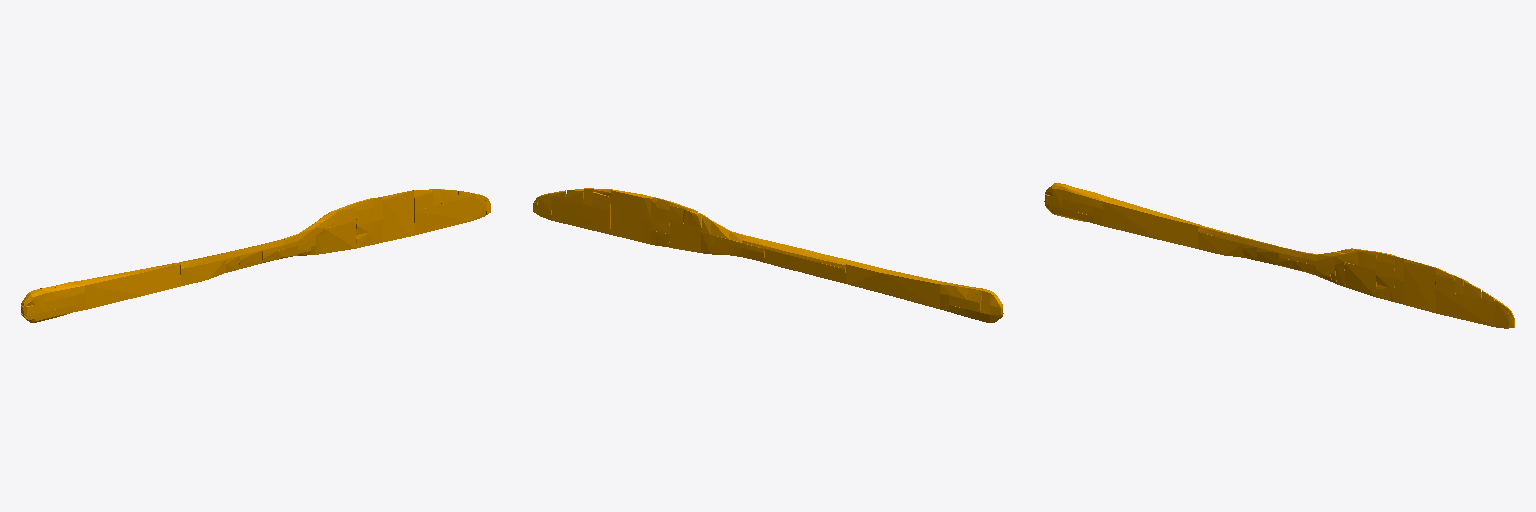
The robot description file, URDF, robot "cutlery-knife":
<?xml version="1.0" ?>
<robot name="cutlery-knife">
  <link name="baseLink">
    <contact>
      <lateral_friction value="1.0"/>
      <inertia_scaling value="3.0"/>
    </contact>
    <inertial>
      <origin rpy="0 0 0" xyz="0.000 0.000 0.000"/>
       <mass value=".1"/>
       <inertia ixx="1" ixy="0.0" ixz="0.0" iyy="1" iyz="0.0" izz="1"/>
    </inertial>
    <visual>
      <origin rpy="0 0 0" xyz="0 0 0"/>
      <geometry>
        <mesh filename="cutlery/cutlery-knife_2_new.obj" scale="1.0 1.0 1.0"/>
      </geometry>
    </visual>
    <collision>
      <origin rpy="0 0 0" xyz="0 0 0"/>
      <geometry>
        <mesh filename="../collision/cutlery/cutlery-knife_2_new.obj" scale="1.0 1.0 1.0"/>
      </geometry>
    </collision>
  </link>
</robot>
        

--- What the picture shows (computed from the rendered views, not written in the file) ---
The picture shows the robot from 3 angles, left to right: view 1: azimuth 30°, elevation 25°; view 2: azimuth 150°, elevation 25°; view 3: azimuth 330°, elevation 25°; orthographic projection.
Model cutlery-knife with 1 links and 0 joints (none), rooted at baseLink, posed all joints at 0.
Links seen in each view (by area): view 1: baseLink; view 2: baseLink; view 3: baseLink.
Link boxes in pixels (x1,y1,x2,y2): baseLink: (21,189,490,322); baseLink: (533,188,1003,322); baseLink: (1044,183,1514,328).
Size in the robot's own frame: 0.2073 by 0.0048 by 0.02 metres.
1 mesh visuals loaded from 1 distinct referenced files (1 OBJ).